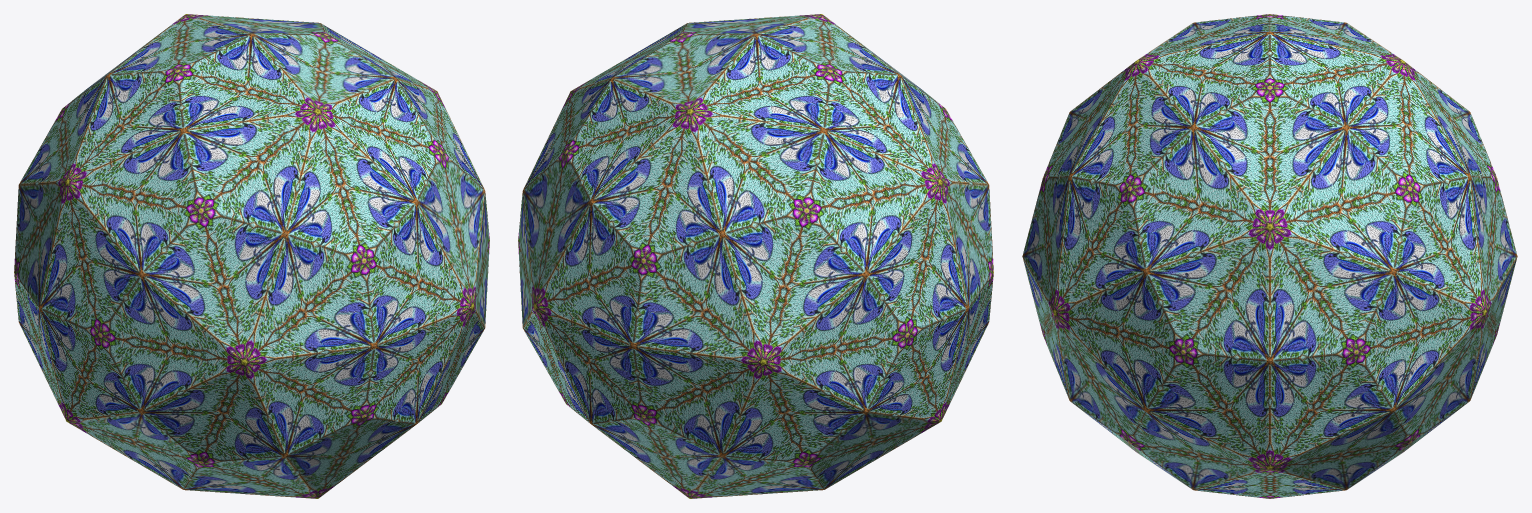
The model's file is DeltoidalHexecontahedron2.obj.
The picture shows the model from 3 angles, left to right: view 1: azimuth 30°, elevation 25°; view 2: azimuth 150°, elevation 25°; view 3: azimuth 270°, elevation 25°; orthographic projection.
Size of the model in its own units: 4.47 by 4.47 by 4.47.
Materials: 1 (1 with a texture image).
